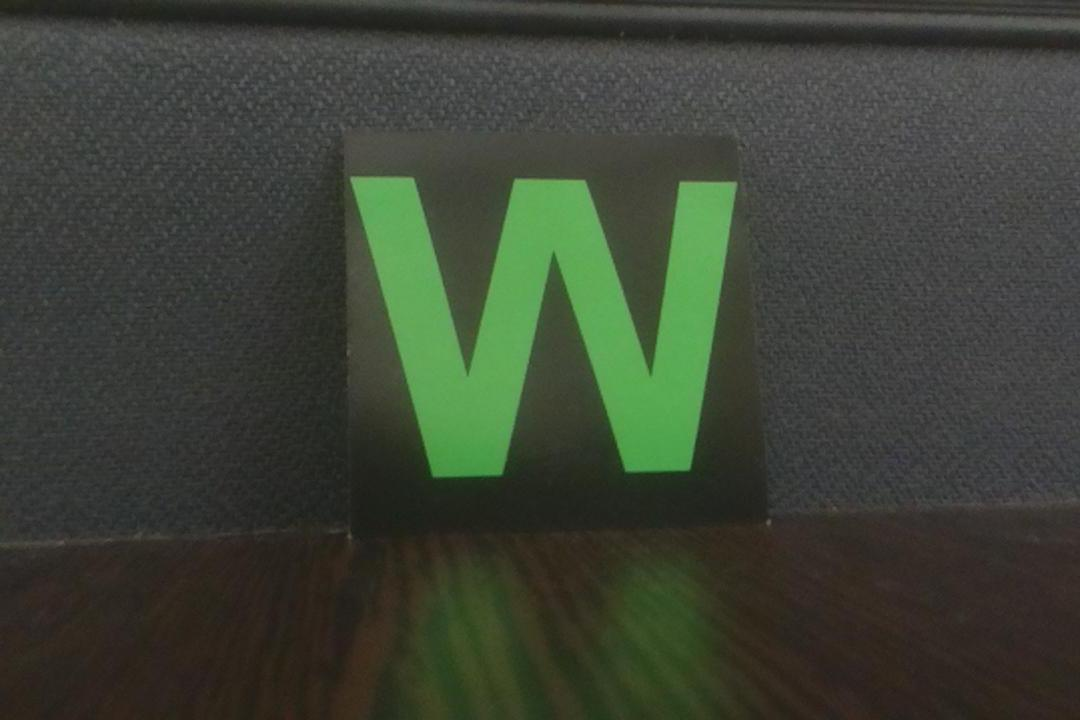alphabet_w: (339, 125, 768, 525)
